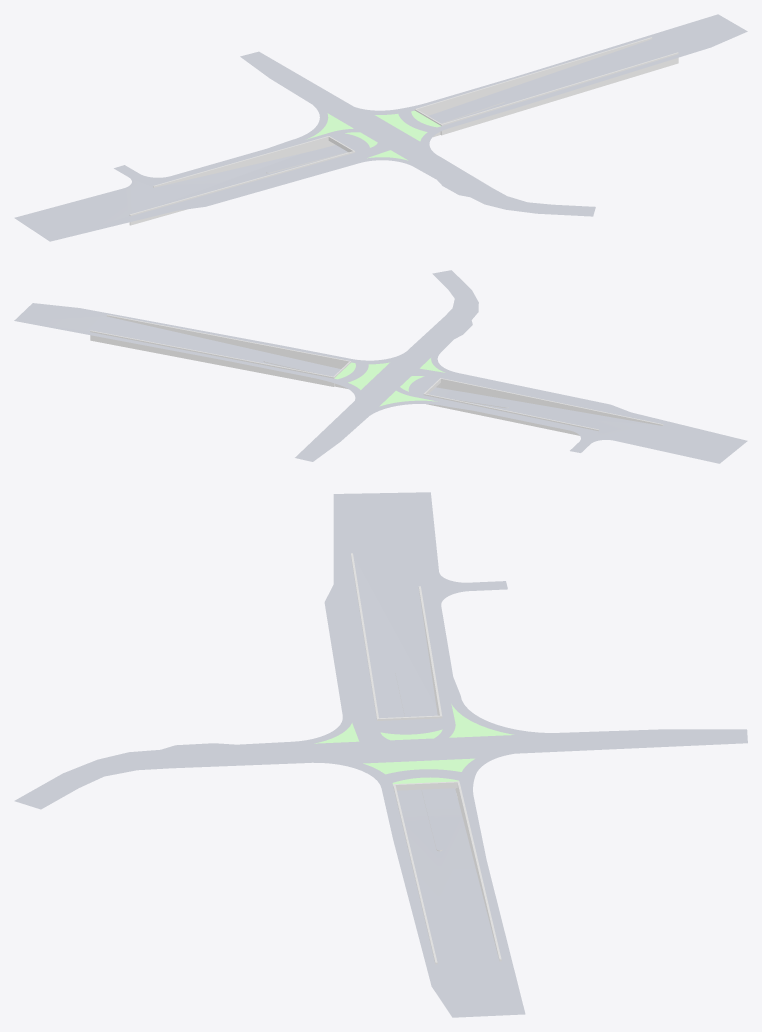
The model's file is Al-Farabi-Nazarbaeva.glb.
3 views of the same model, one above another, from view 1: azimuth 30°, elevation 25°; view 2: azimuth 150°, elevation 25°; view 3: azimuth 270°, elevation 25° (orthographic). The views are drawn at different scales.
Parts seen in each view (by area): view 1: group_0.001, group_0, group_2, group_1.003, group_3; view 2: group_0.001, group_2, group_0, group_1.003, group_3; view 3: group_0.001, group_0, group_2, group_1.003.
Boxes of the visible parts, bbox=[...] form: group_0.001: bbox=[14, 14, 747, 241]; group_0: bbox=[131, 39, 675, 213]; group_2: bbox=[129, 37, 678, 225]; group_1.003: bbox=[375, 114, 427, 141]; group_3: bbox=[266, 100, 504, 172]; group_0.001: bbox=[14, 270, 747, 463]; group_2: bbox=[90, 314, 663, 435]; group_0: bbox=[92, 316, 661, 430]; group_1.003: bbox=[348, 362, 389, 389]; group_3: bbox=[264, 360, 508, 407]; group_0.001: bbox=[14, 492, 747, 1017]; group_0: bbox=[353, 555, 499, 964]; group_2: bbox=[351, 553, 501, 964]; group_1.003: bbox=[363, 758, 474, 774].
Bounding box in the file's own units: 588 × 8.02 × 347.
